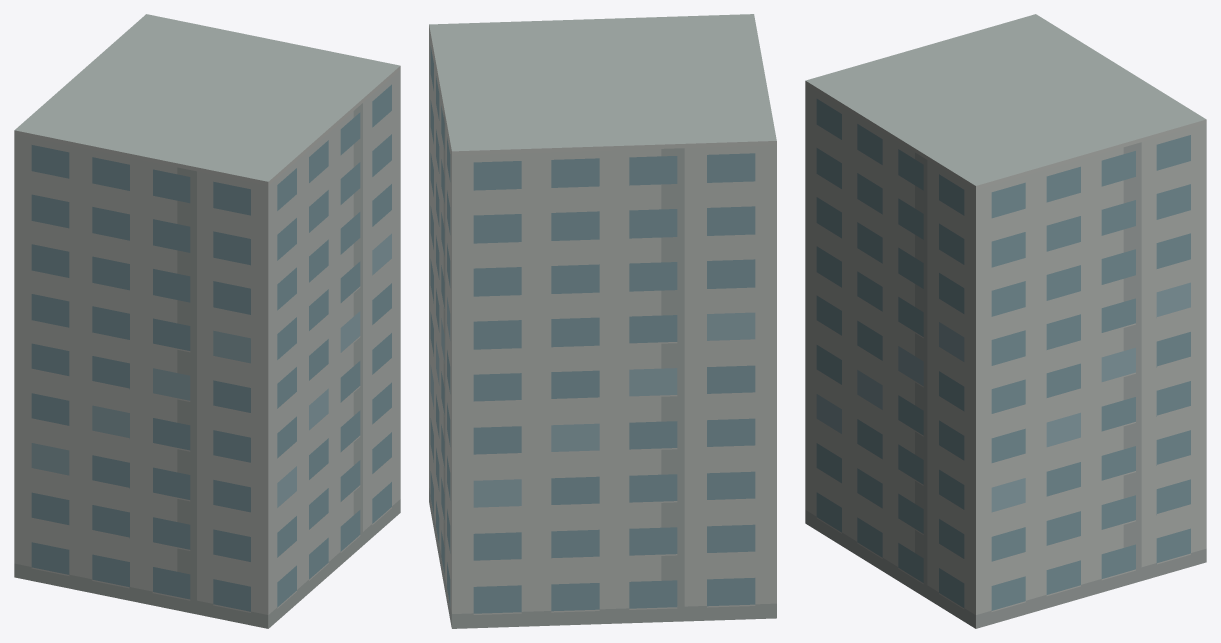
Rendered from residential-66420744-8873-4e3a-a5d4-c89a65733d5d.glb.
The picture shows the model from 3 angles, left to right: view 1: azimuth 30°, elevation 25°; view 2: azimuth 150°, elevation 25°; view 3: azimuth 270°, elevation 25°; orthographic projection. The views are drawn at different scales.
Parts seen in each view (by area): view 1: residential-66420744-8873-4e3a-a5d4-c89a65733d5d.tmp; view 2: residential-66420744-8873-4e3a-a5d4-c89a65733d5d.tmp; view 3: residential-66420744-8873-4e3a-a5d4-c89a65733d5d.tmp.
Part boxes in pixels (x1,y1,x2,y2): residential-66420744-8873-4e3a-a5d4-c89a65733d5d.tmp: [14, 14, 400, 628]; residential-66420744-8873-4e3a-a5d4-c89a65733d5d.tmp: [429, 14, 776, 628]; residential-66420744-8873-4e3a-a5d4-c89a65733d5d.tmp: [805, 14, 1206, 628].
Bounding box in the file's own units: 22.5 × 27 × 22.17.
